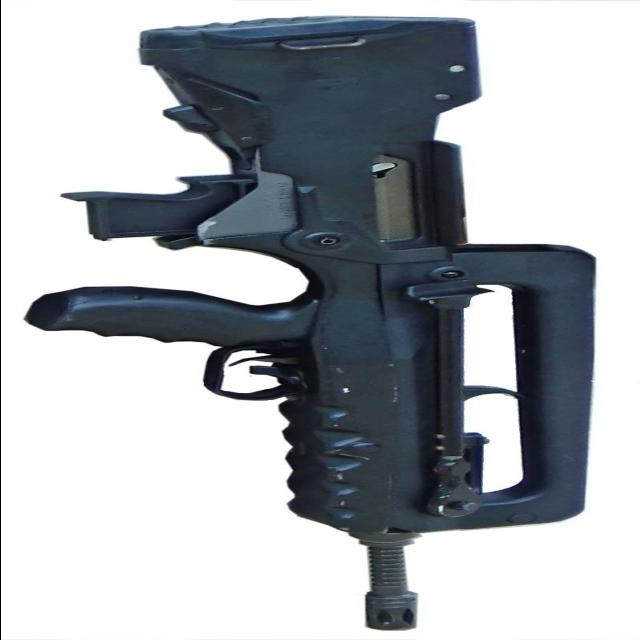heavyweapon: (45, 9, 623, 640)
